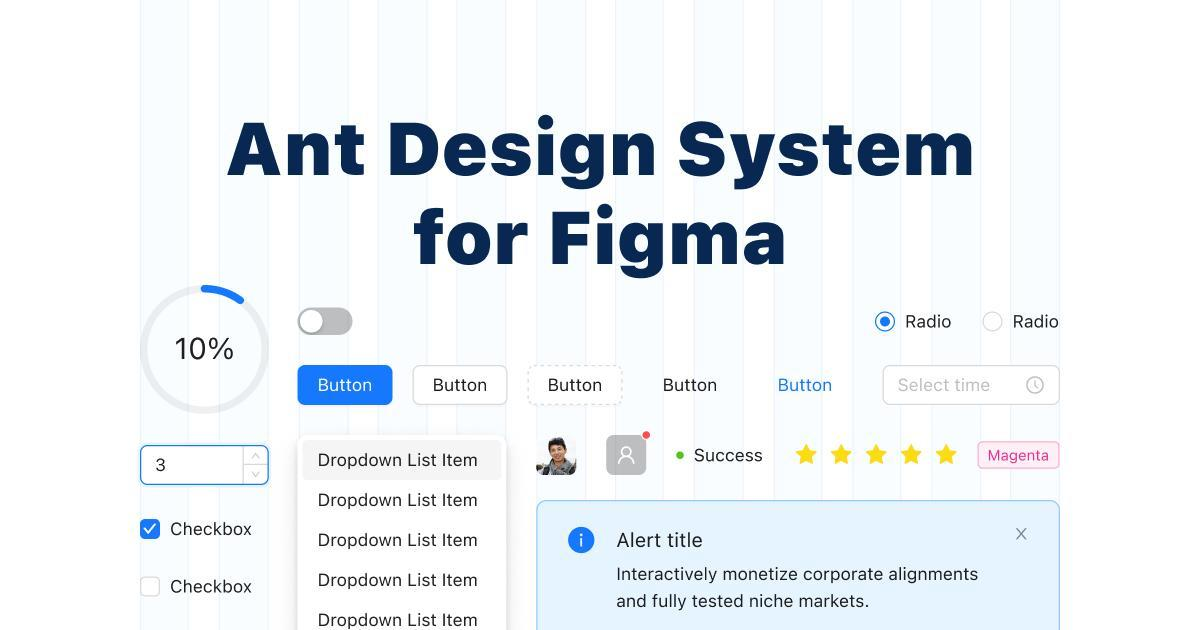button: (526, 364, 626, 408), (299, 364, 395, 407), (413, 364, 509, 406)
checkbox: (141, 519, 162, 540), (140, 579, 162, 598)
icon: (883, 366, 1061, 407)
input: (140, 445, 246, 487)
label: (173, 521, 256, 539), (171, 579, 253, 595), (778, 377, 835, 396), (904, 312, 953, 331), (663, 378, 719, 393), (1013, 315, 1060, 330)
radio: (875, 310, 897, 333), (982, 312, 1006, 333)
switch: (299, 307, 354, 336)
